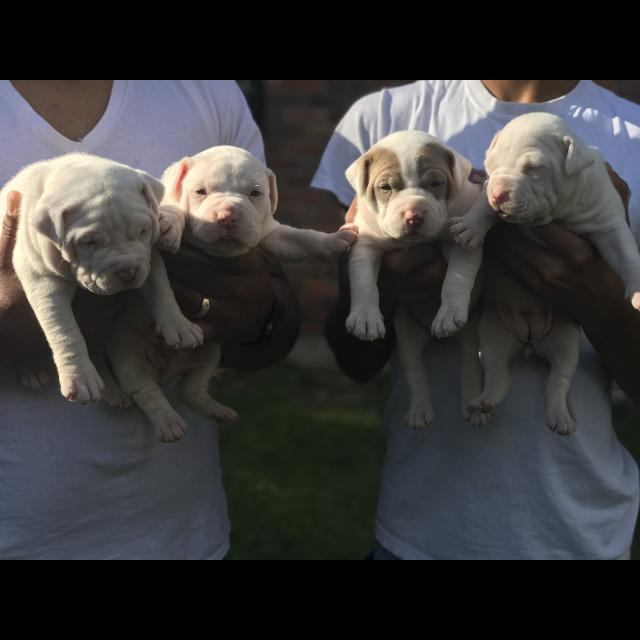am_pit_bull_terrier: (103, 146, 359, 445), (447, 112, 640, 437), (2, 153, 204, 406), (345, 129, 492, 431)
